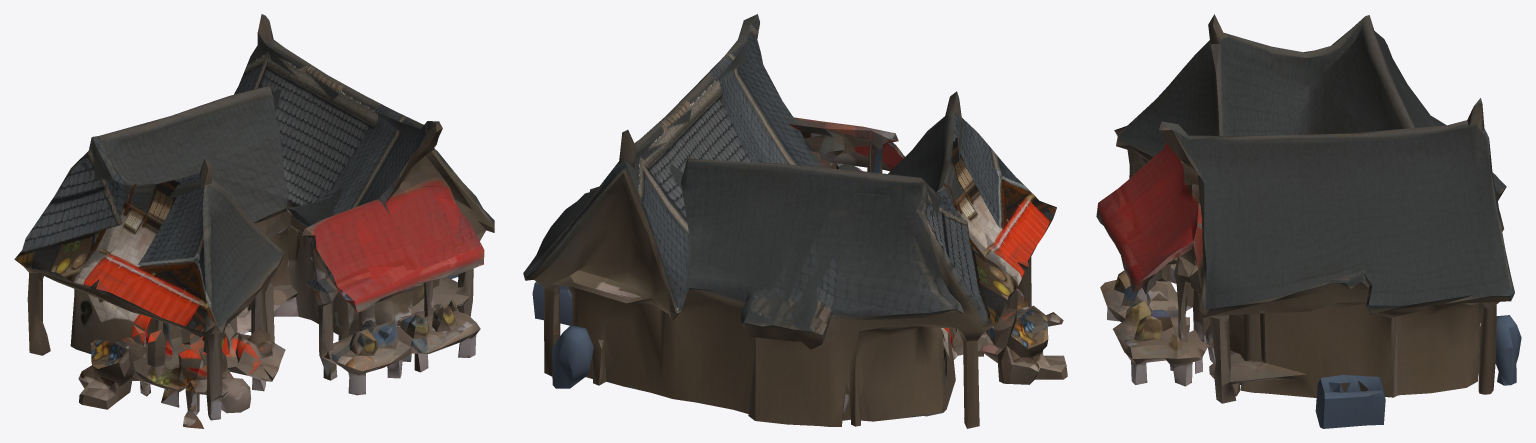
The model's file is ayutthaya_mercado.glb.
3 views of the same model, side by side, from view 1: azimuth 30°, elevation 25°; view 2: azimuth 150°, elevation 25°; view 3: azimuth 270°, elevation 25° (orthographic). The views are drawn at different scales.
Visible parts, largest first — view 1: geometry_0; view 2: geometry_0; view 3: geometry_0.
Boxes of the visible parts, left/top/right/bottom form: geometry_0: left=14, top=14, right=494, bottom=428; geometry_0: left=523, top=14, right=1067, bottom=428; geometry_0: left=1096, top=14, right=1521, bottom=428.
Bounding box in the file's own units: 3.4 × 1.8 × 2.68.
Materials: 1 (1 with a texture image).
